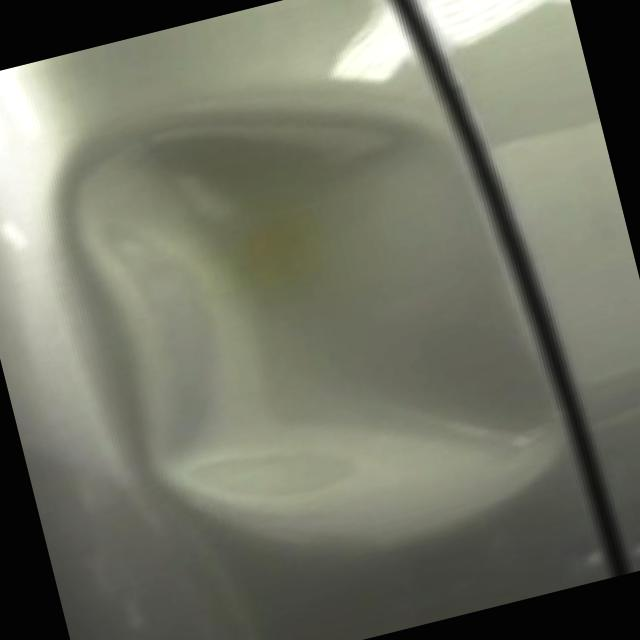dent: (44, 46, 588, 601)
